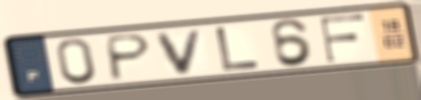0: (54, 37, 99, 86)
6: (268, 16, 313, 68)
F: (317, 12, 368, 65)
L: (212, 25, 263, 73)
P: (105, 32, 155, 83)
V: (153, 27, 207, 77)
